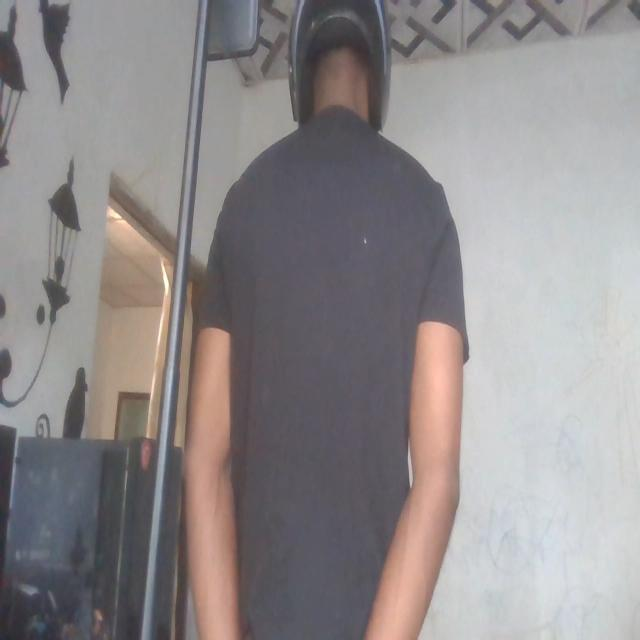Helmet_Wearer: (283, 0, 397, 169)
Person: (191, 3, 478, 640)
